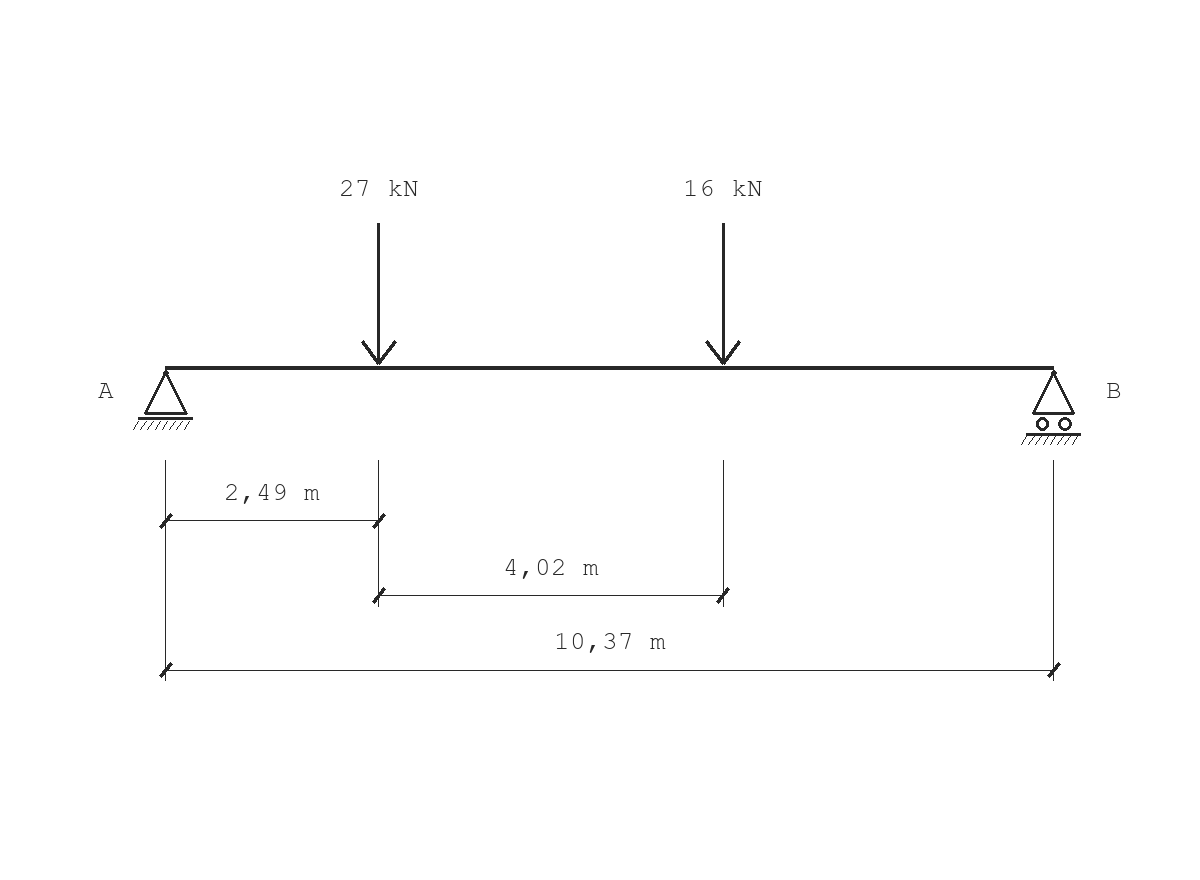pin_support: (133, 370, 193, 430)
point_load: (361, 223, 397, 365), (705, 223, 741, 365)
roller_support: (1021, 370, 1081, 445)
